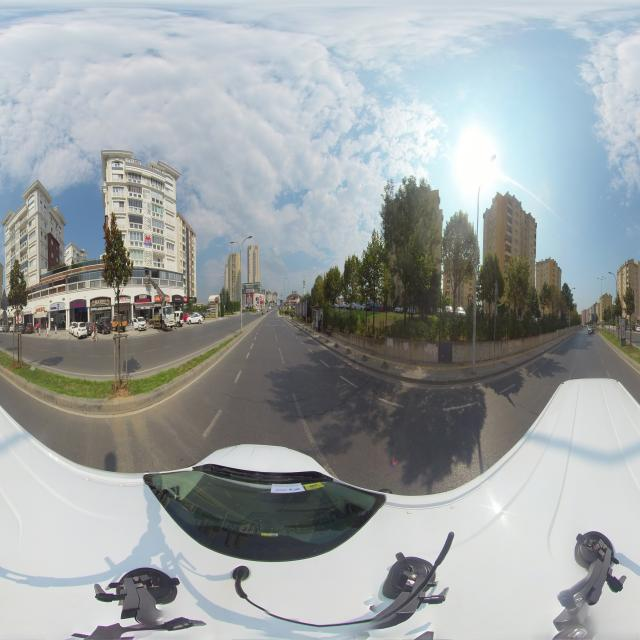SignStore: (92, 298, 110, 307), (136, 295, 151, 303), (71, 300, 85, 308), (50, 304, 64, 311), (174, 297, 188, 302), (35, 306, 46, 312), (24, 309, 32, 315), (155, 296, 161, 302), (7, 314, 13, 318)
